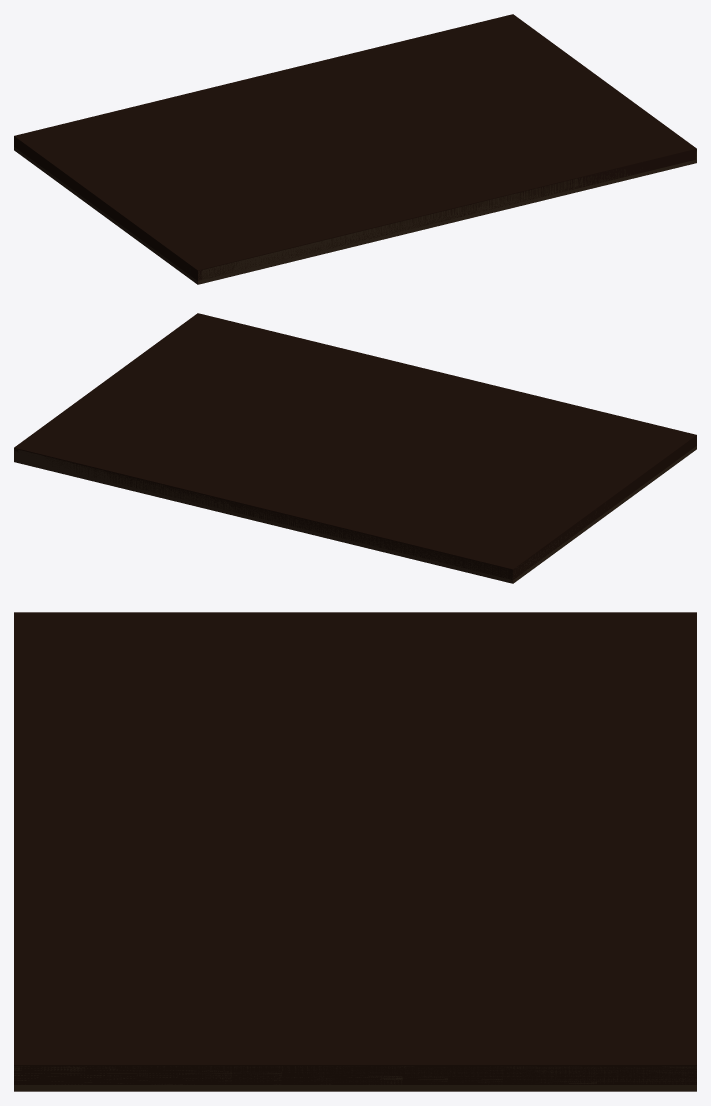
File: shi-command-surface-v1-lod1.glb
The picture shows the model from 3 angles, top to bottom: view 1: azimuth 30°, elevation 25°; view 2: azimuth 150°, elevation 25°; view 3: azimuth 270°, elevation 25°; orthographic projection. The views are drawn at different scales.
Parts seen in each view (by area): view 1: SM_SHI_CommandSurface_LOD1_PackedEarth, SM_SHI_CommandSurface_LOD1_WoodSouth, SM_SHI_CommandSurface_LOD1_WoodWest; view 2: SM_SHI_CommandSurface_LOD1_PackedEarth, SM_SHI_CommandSurface_LOD1_WoodNorth, SM_SHI_CommandSurface_LOD1_WoodWest; view 3: SM_SHI_CommandSurface_LOD1_PackedEarth, SM_SHI_CommandSurface_LOD1_WoodEast.
Boxes of the visible parts, x1,y1,x2,y2 form: SM_SHI_CommandSurface_LOD1_PackedEarth: (14, 14, 696, 280); SM_SHI_CommandSurface_LOD1_WoodSouth: (202, 160, 692, 283); SM_SHI_CommandSurface_LOD1_WoodWest: (14, 147, 201, 284); SM_SHI_CommandSurface_LOD1_PackedEarth: (14, 313, 696, 579); SM_SHI_CommandSurface_LOD1_WoodNorth: (18, 449, 508, 582); SM_SHI_CommandSurface_LOD1_WoodWest: (509, 446, 696, 583); SM_SHI_CommandSurface_LOD1_PackedEarth: (14, 612, 696, 1084); SM_SHI_CommandSurface_LOD1_WoodEast: (14, 1066, 696, 1091).
Bounding box in the file's own units: 5.8 × 0.16 × 3.7.
